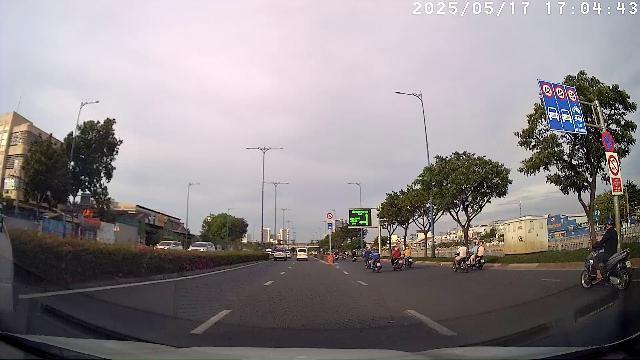127-toc-do-toi-da-50: (567, 88, 578, 103)
127-toc-do-toi-da-60: (541, 82, 554, 98), (555, 84, 566, 101)
130-cam-dung-va-do-xe: (602, 131, 615, 152)
